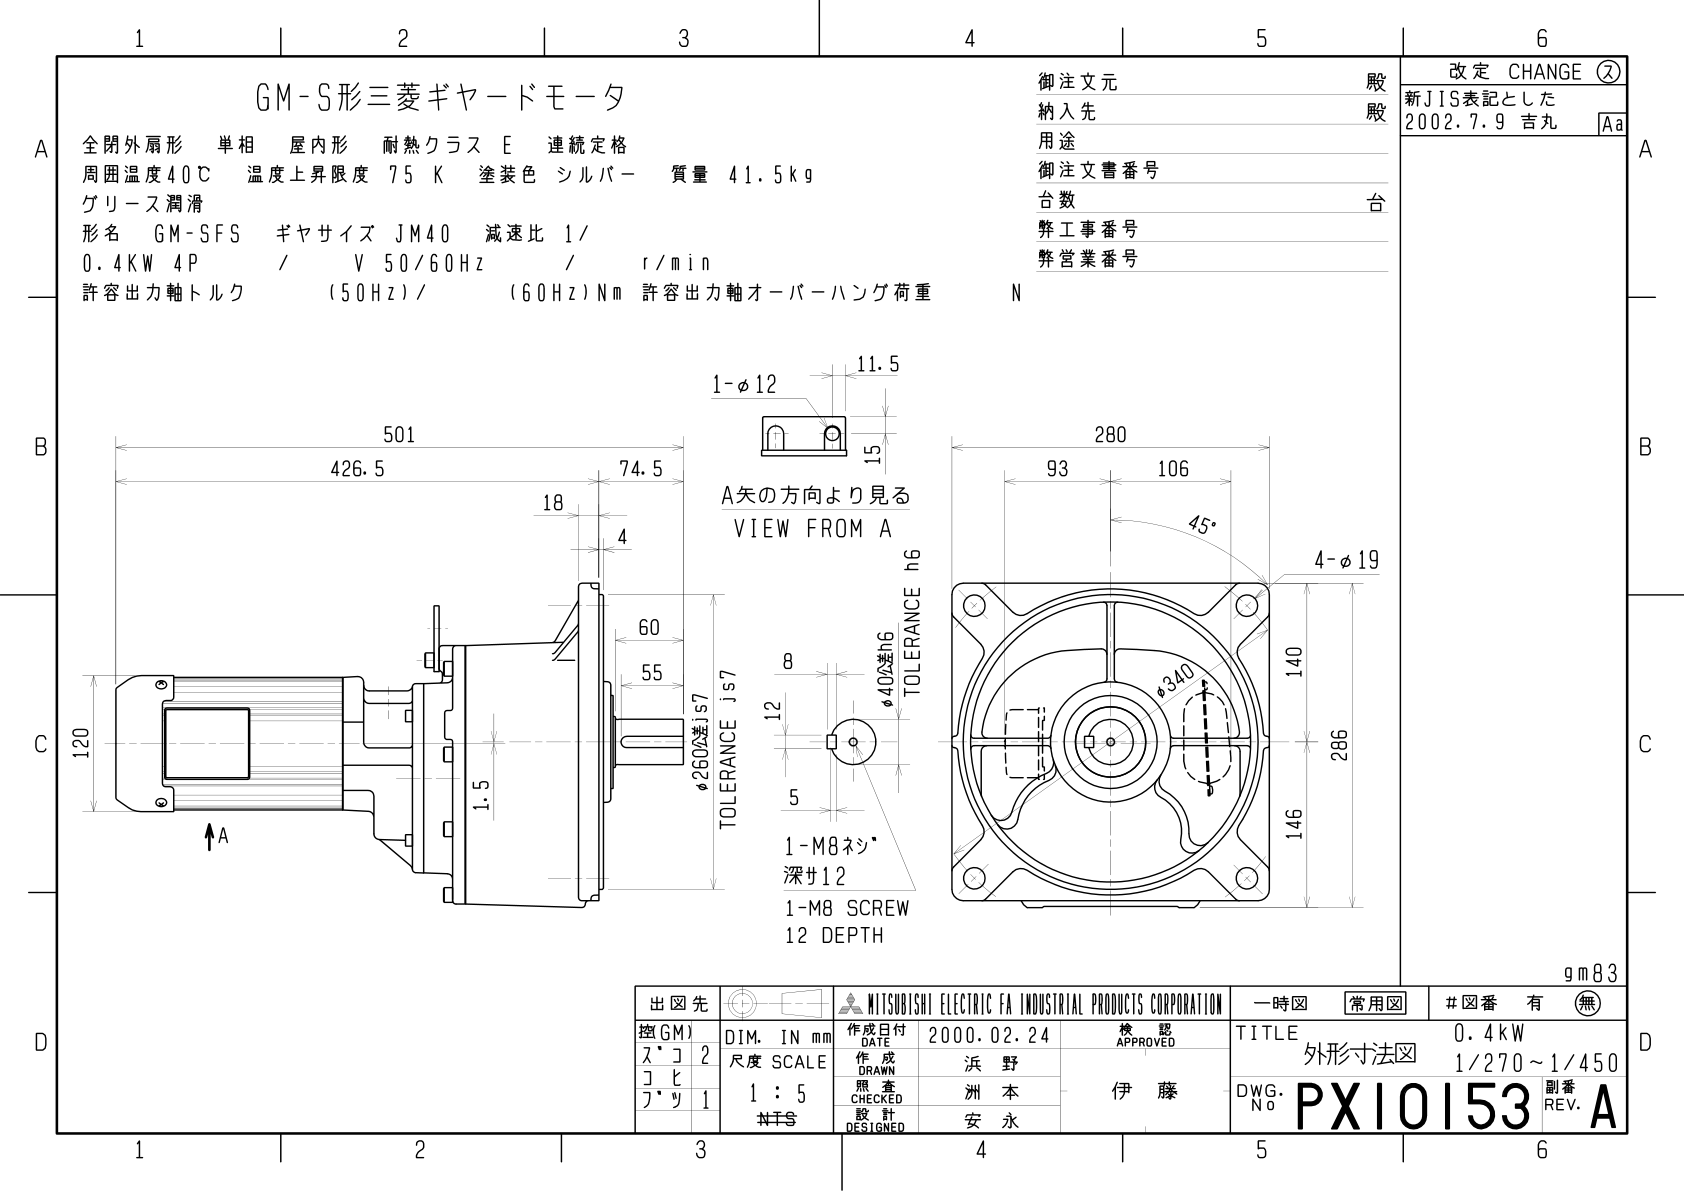GM_S_屋内＿単相_フランジ: (70, 351, 1395, 967)
